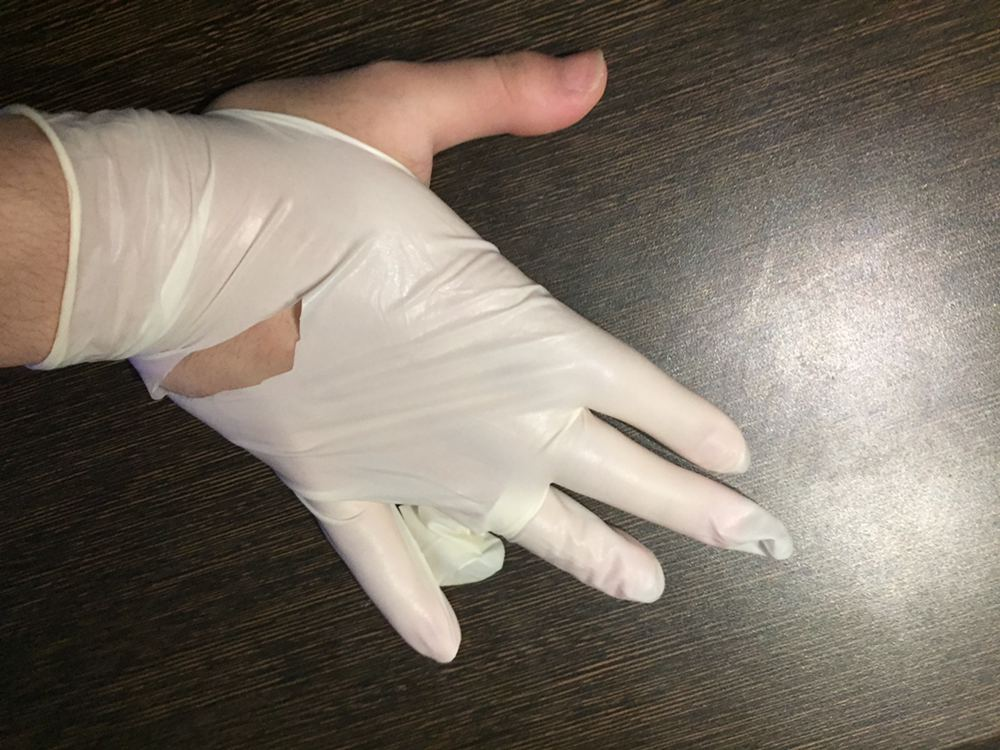defected: (108, 11, 829, 687)
